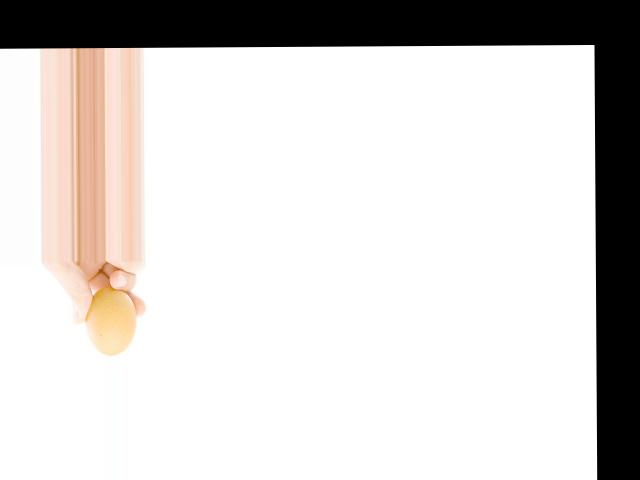egg: (85, 288, 137, 356)
